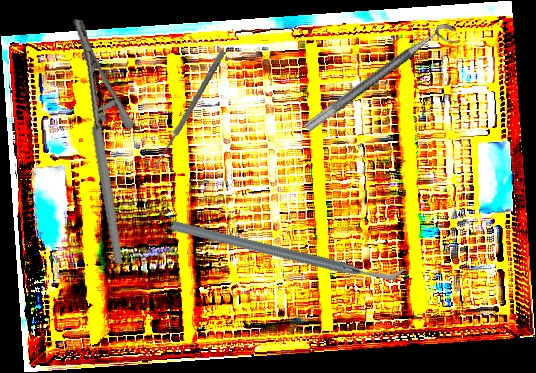Chopper: (169, 140, 408, 359)
Fixation Ring: (303, 19, 462, 145)
Needle Holder: (32, 18, 163, 265)
Surgical Spoon: (149, 49, 227, 174)
